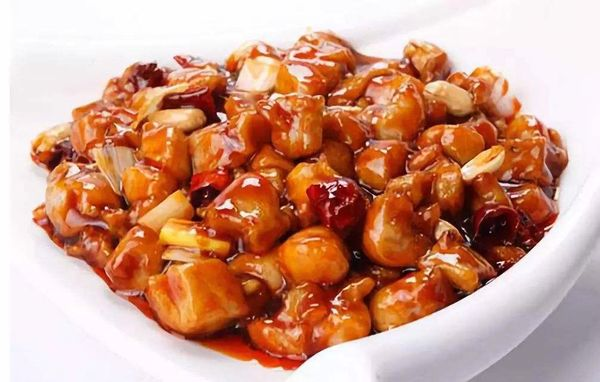sushi: (22, 30, 584, 371)
